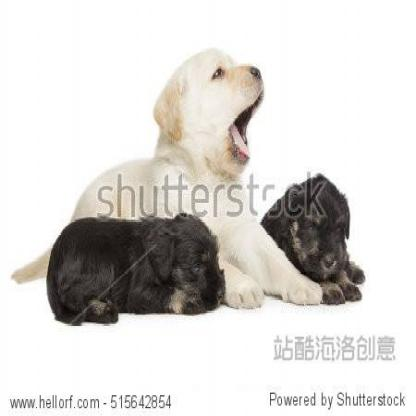Labarador Retriever: (13, 43, 323, 301)
